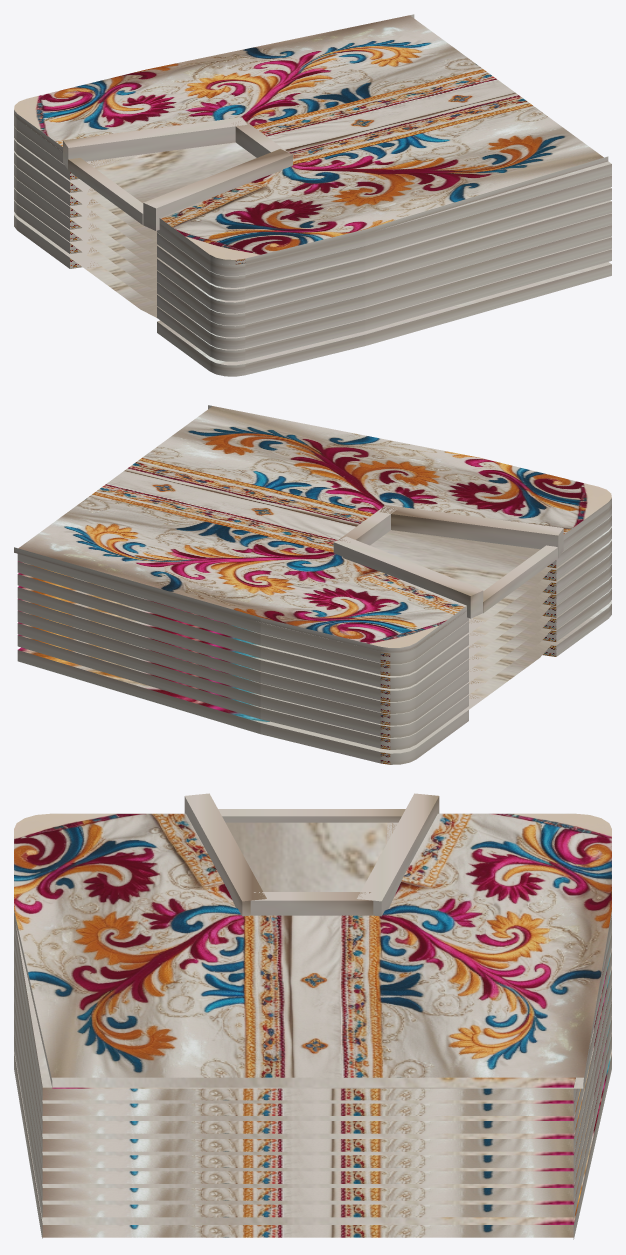
File: Guayabera2_2.obj
3 views of the same model, one above another, from view 1: azimuth 30°, elevation 25°; view 2: azimuth 150°, elevation 25°; view 3: azimuth 270°, elevation 25° (orthographic). The views are drawn at different scales.
Parts seen in each view (by area): view 1: Guayabera2; view 2: Guayabera2; view 3: Guayabera2.
Part boxes in pixels (left/top/right/bottom): Guayabera2: left=14, top=14, right=611, bottom=376; Guayabera2: left=14, top=405, right=611, bottom=764; Guayabera2: left=14, top=793, right=611, bottom=1239.
Bounding box in the file's own units: 0.3772 × 0.1129 × 0.35.
Materials: 1 (1 with a texture image).
